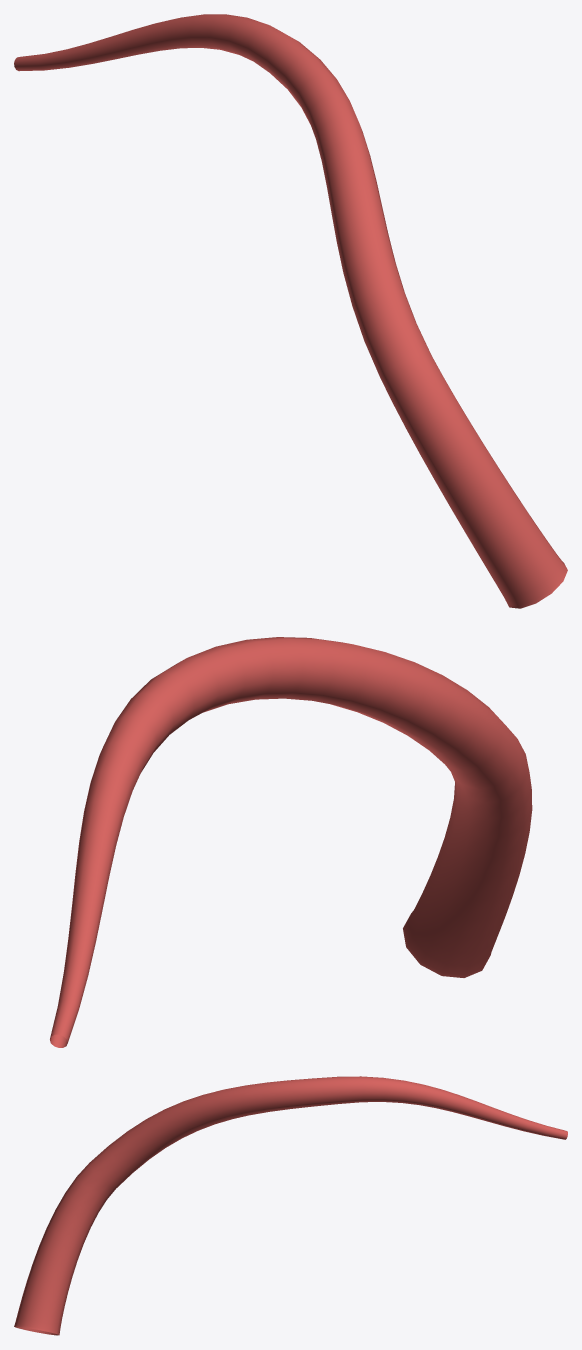
3 views of the same model, one above another, from view 1: azimuth 30°, elevation 25°; view 2: azimuth 150°, elevation 25°; view 3: azimuth 270°, elevation 25° (orthographic). The views are drawn at different scales.
Parts seen in each view (by area): view 1: 右侧角回动脉; view 2: 右侧角回动脉; view 3: 右侧角回动脉.
Boxes of the visible parts, x1,y1,x2,y2 form: 右侧角回动脉: [14, 14, 567, 608]; 右侧角回动脉: [50, 637, 532, 1047]; 右侧角回动脉: [14, 1076, 567, 1335].
Size of the model in its own units: 0.00336 by 0.00898 by 0.0175.
